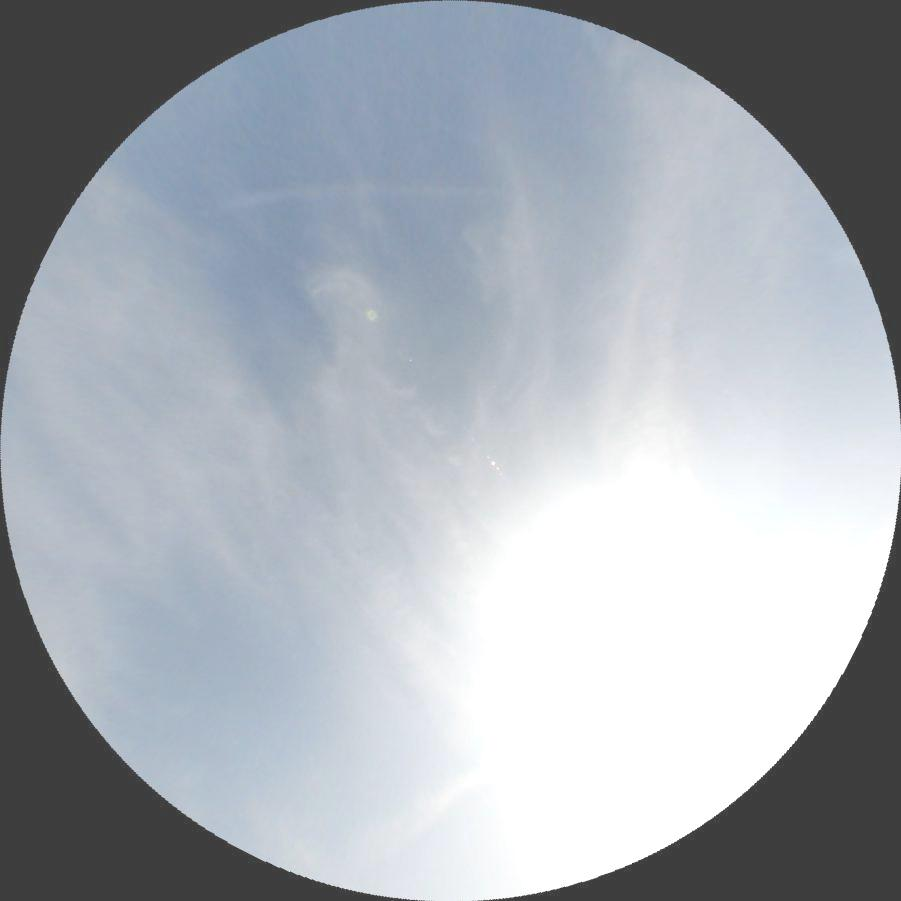contrail veryold: (299, 533, 901, 897), (593, 181, 697, 560), (213, 174, 491, 210), (663, 424, 716, 591)
sun: (484, 516, 838, 862)
